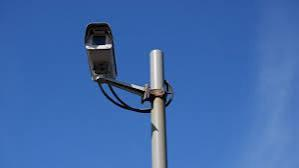Speed-Camera: (78, 18, 123, 83)
